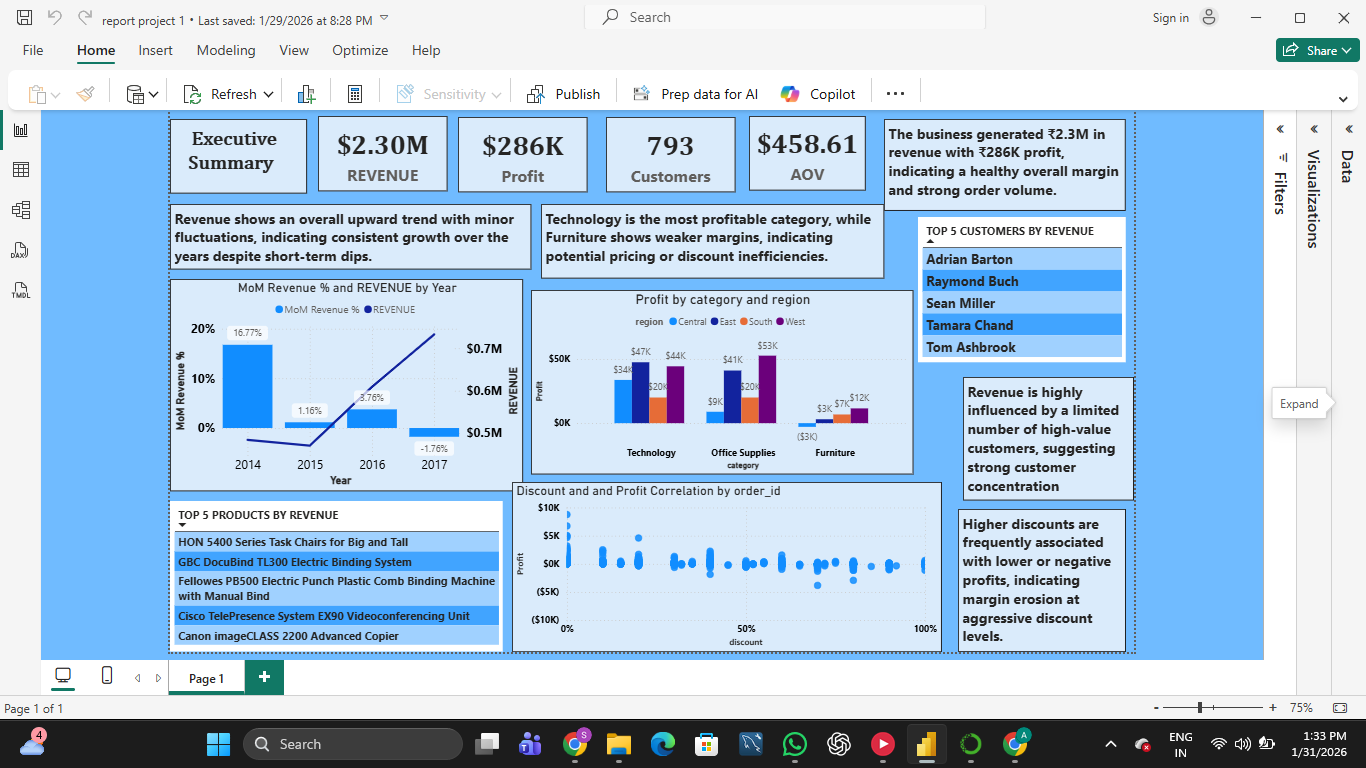

The page's visual inventory and layout, read from the dashboard file:
{"tool":"powerbi","page":{"name":"Page 1","canvas":[1280,720],"ordinal":0},"visuals":[{"type":"card","fields":{"Values":["measure (2).REVENUE"]},"box":[197.2,7.5,171.8,100.1],"z":0},{"type":"card","fields":{"Values":["measure (2).Profit"]},"box":[382.4,9,171.8,100.1],"z":1000},{"type":"card","fields":{"Values":["measure (2).Customers"]},"box":[579.6,9,171.8,100.1],"z":2000},{"type":"card","fields":{"Values":["measure (2).AOV"]},"box":[769.3,7.5,155.4,98.6],"z":3000},{"type":"tableEx","fields":{"Values":["superstore v_dim_product.product_name"]},"box":[0,519.8,442.2,200.2],"z":4000},{"type":"tableEx","fields":{"Values":["superstore v_dim_customer.customer_name"]},"box":[993.4,141.9,276.3,192.7],"z":5000},{"type":"textbox","box":[0,12,182.2,98.6],"z":6000},{"type":"clusteredColumnChart","fields":{"Y":["measure (2).Profit"],"Category":["superstore v_dim_product.category"],"Series":["superstore v_dim_geography.region"]},"box":[479.5,239,507.9,245],"z":7000},{"type":"lineStackedColumnComboChart","fields":{"Category":["Date.Year","Date.Month Name"],"Y":["measure (2).MoM Revenue %"],"Y2":["measure (2).REVENUE"]},"box":[0,224.1,469,282.3],"z":8000},{"type":"scatterChart","fields":{"X":["superstore v_fact_sales.discount"],"Y":["superstore v_fact_sales.profit"],"Category":["superstore v_fact_sales.order_id"]},"box":[454.1,494.4,570.6,225.6],"z":9000},{"type":"textbox","box":[948.5,12,321.2,122.5],"z":10000},{"type":"textbox","box":[492.9,125.5,455.6,98.6],"z":11000},{"type":"textbox","box":[1053.1,354,227.1,164.3],"z":12000},{"type":"textbox","box":[1047.1,530.3,222.6,189.7],"z":13000},{"type":"textbox","box":[0,125.5,479.5,86.6],"z":14000}]}

Visuals, with their boxes on the page's 1280x720 design canvas (x1, y1, x2, y2). These are canvas units, not pixel positions in the 1366x768 screenshot, which may show the page scaled, cropped or inside an application window:
card - measure (2).REVENUE: <region>197, 8, 369, 108</region>
card - measure (2).Profit: <region>382, 9, 554, 109</region>
card - measure (2).Customers: <region>580, 9, 751, 109</region>
card - measure (2).AOV: <region>769, 8, 925, 106</region>
tableEx - superstore v_dim_product.product_name: <region>0, 520, 442, 720</region>
tableEx - superstore v_dim_customer.customer_name: <region>993, 142, 1270, 335</region>
textbox: <region>0, 12, 182, 111</region>
clusteredColumnChart - measure (2).Profit x superstore v_dim_product.category: <region>480, 239, 987, 484</region>
lineStackedColumnComboChart - Date.Year x Date.Month Name: <region>0, 224, 469, 506</region>
scatterChart - superstore v_fact_sales.discount x superstore v_fact_sales.profit: <region>454, 494, 1025, 720</region>
textbox: <region>948, 12, 1270, 134</region>
textbox: <region>493, 126, 948, 224</region>
textbox: <region>1053, 354, 1280, 518</region>
textbox: <region>1047, 530, 1270, 720</region>
textbox: <region>0, 126, 480, 212</region>
